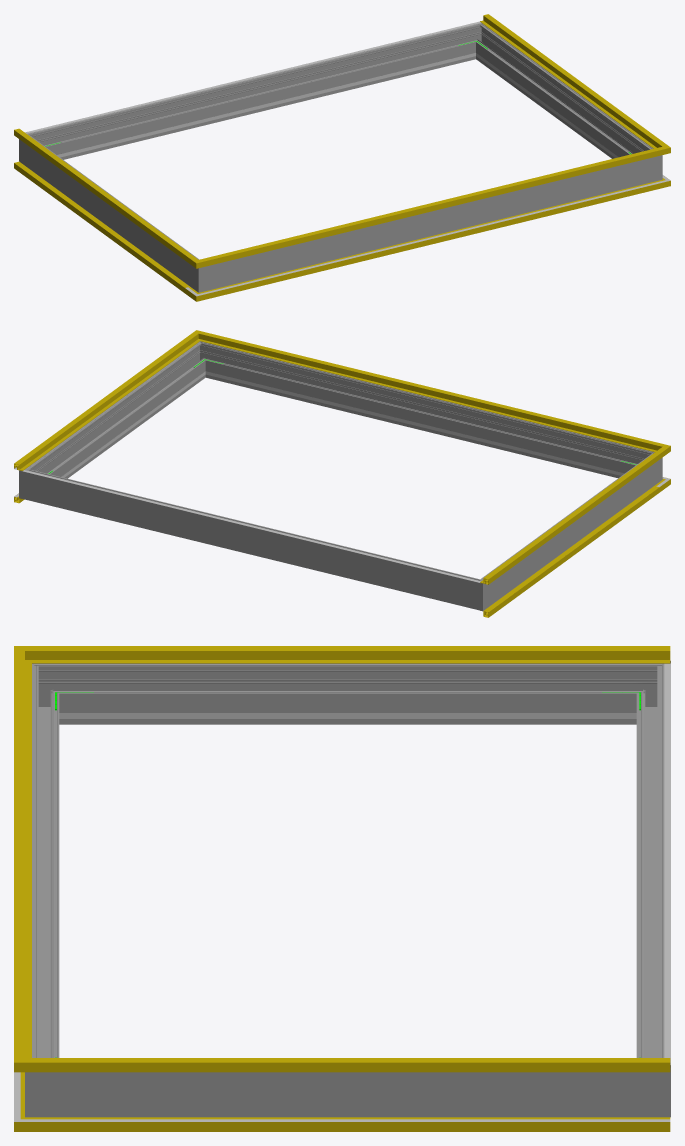
The picture shows the model from 3 angles, top to bottom: view 1: azimuth 30°, elevation 25°; view 2: azimuth 150°, elevation 25°; view 3: azimuth 270°, elevation 25°; orthographic projection. The views are drawn at different scales.
Parts seen in each view (by area): view 1: 3DGeom-276, 3DGeom-298, 3DGeom-297, 3DGeom-123, 3DGeom-268, 3DGeom-11, 3DGeom-128, 3DGeom-118, 3DGeom-244, 3DGeom-6, 3DGeom-220, 3DGeom-20 (+5 smaller); view 2: 3DGeom-298, 3DGeom-276, 3DGeom-297, 3DGeom-123, 3DGeom-268, 3DGeom-128, 3DGeom-118, 3DGeom-239, 3DGeom-6, 3DGeom-220, 3DGeom-278, 3DGeom-284 (+3 smaller); view 3: 3DGeom-268, 3DGeom-297, 3DGeom-118, 3DGeom-276, 3DGeom-298, 3DGeom-128, 3DGeom-16, 3DGeom-123, 3DGeom-232, 3DGeom-220, 3DGeom-290, 3DGeom-284 (+5 smaller).
Part boxes in pixels (x1,y1,x2,y2): 3DGeom-276: (40,27,472,159); 3DGeom-298: (218,160,642,287); 3DGeom-297: (478,30,647,158); 3DGeom-123: (213,150,651,263); 3DGeom-268: (30,140,193,283); 3DGeom-11: (213,183,651,296); 3DGeom-128: (480,14,658,146); 3DGeom-118: (14,128,189,259); 3DGeom-244: (64,57,456,156); 3DGeom-6: (14,161,189,293); 3DGeom-220: (25,21,481,133); 3DGeom-20: (214,184,650,291); 3DGeom-298: (209,345,640,477); 3DGeom-276: (39,472,466,606); 3DGeom-297: (34,348,203,478); 3DGeom-123: (211,335,650,449); 3DGeom-268: (488,459,650,602); 3DGeom-128: (14,338,193,470); 3DGeom-118: (480,453,659,584); 3DGeom-239: (224,376,617,474); 3DGeom-6: (480,486,659,617); 3DGeom-220: (22,470,480,582); 3DGeom-278: (463,574,494,611); 3DGeom-284: (19,463,42,502); 3DGeom-268: (66,663,629,724); 3DGeom-297: (66,1072,629,1117); 3DGeom-118: (55,646,670,663); 3DGeom-276: (636,678,664,1057); 3DGeom-298: (32,678,59,1057); 3DGeom-128: (55,1058,670,1072); 3DGeom-16: (55,1117,670,1131); 3DGeom-123: (14,663,31,1054); 3DGeom-232: (99,713,596,718); 3DGeom-220: (664,663,670,1065); 3DGeom-290: (25,1050,66,1117); 3DGeom-284: (630,1050,670,1117).
Bounding box in the file's own units: 3.66 × 0.2836 × 2.44.
